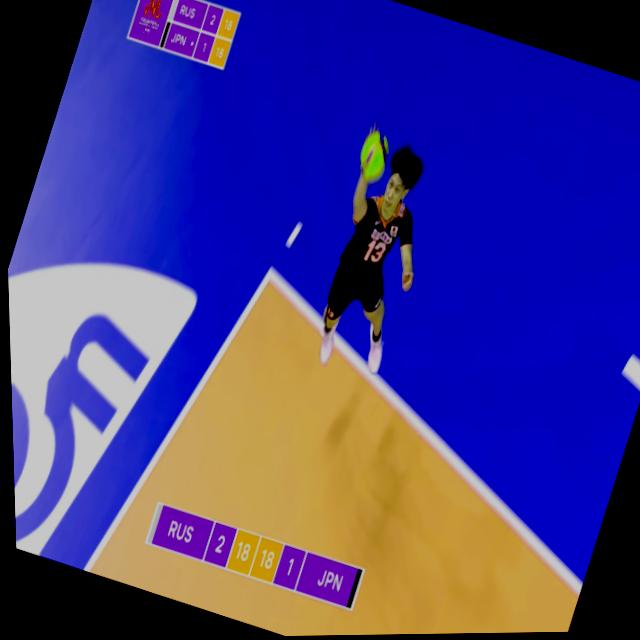player: (288, 122, 465, 391)
